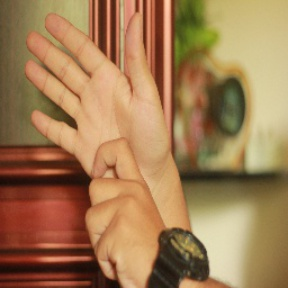R: (19, 11, 171, 273)
